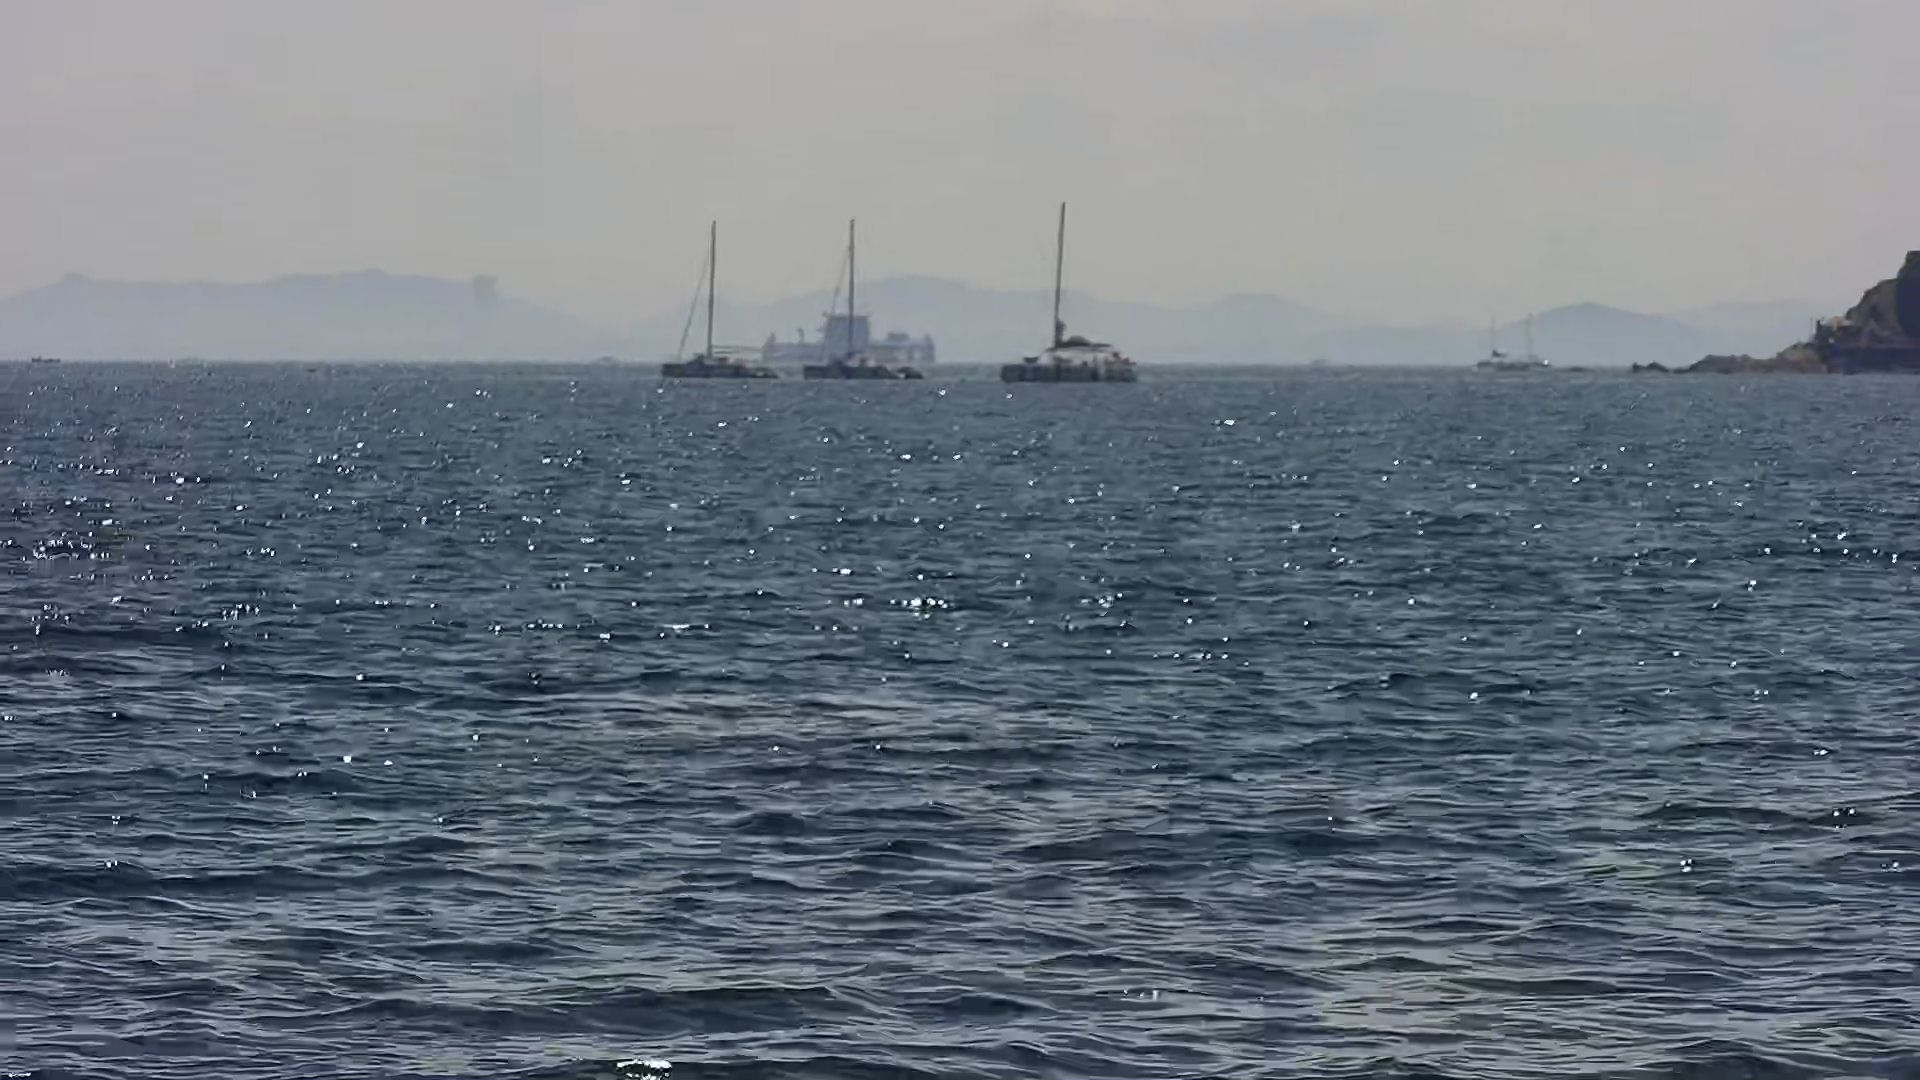boat: (998, 206, 1135, 388), (663, 208, 787, 388), (802, 210, 924, 381)
